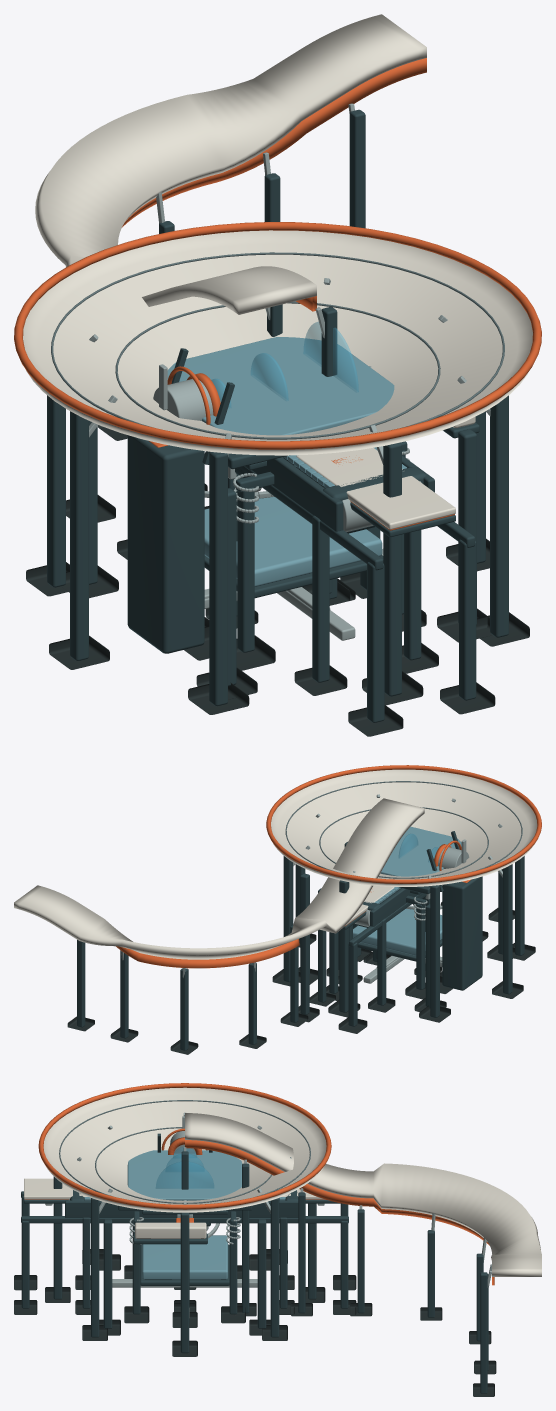
The model's file is advanced-obstacle-library.glb.
3 renders of one model, top to bottom at view 1: azimuth 30°, elevation 25°; view 2: azimuth 150°, elevation 25°; view 3: azimuth 270°, elevation 25°, orthographic. The views are drawn at different scales.
Parts seen in each view (by area): view 1: Funnel annular surface, Coaster ivory deck, Jet pedestal, Gimbal inner deck enamel, Funnel outer safety rail, Funnel lower catch deck, Funnel leg 4, Funnel leg 5, Funnel leg 2, Funnel leg 3, Coaster low safety rails, Funnel leg 6 (+29 smaller); view 2: Funnel annular surface, Coaster ivory deck, Jet pedestal, Funnel outer safety rail, Gimbal inner deck enamel, Coaster low safety rails, Funnel lower catch deck, Funnel leg 6, Funnel leg 5, Funnel leg 8, Funnel leg 7, Funnel leg 4 (+20 smaller); view 3: Funnel annular surface, Coaster ivory deck, Gimbal inner deck enamel, Funnel outer safety rail, Funnel lower catch deck, Coaster low safety rails, Conveyor side guard 0.82, Cascade side beam 0.82, Funnel leg 1, Funnel leg 8, Funnel leg 2, Gimbal pedestal 2.15-2.15 (+25 smaller).
Part boxes in pixels (x1,y1,x2,y2): Funnel annular surface: [23, 230, 532, 455]; Coaster ivory deck: [35, 14, 426, 314]; Jet pedestal: [127, 435, 204, 653]; Gimbal inner deck enamel: [167, 337, 394, 435]; Funnel outer safety rail: [14, 222, 541, 449]; Funnel lower catch deck: [204, 497, 382, 586]; Funnel leg 4: [209, 452, 227, 706]; Funnel leg 5: [70, 411, 88, 660]; Funnel leg 2: [490, 395, 508, 637]; Funnel leg 3: [383, 442, 401, 696]; Coaster low safety rails: [122, 58, 426, 311]; Funnel leg 6: [47, 395, 65, 587]; Funnel annular surface: [271, 769, 537, 886]; Coaster ivory deck: [14, 798, 424, 959]; Jet pedestal: [442, 876, 482, 990]; Funnel outer safety rail: [266, 765, 541, 883]; Gimbal inner deck enamel: [380, 826, 461, 876]; Coaster low safety rails: [116, 939, 299, 968]; Funnel lower catch deck: [353, 908, 442, 955]; Funnel leg 6: [430, 885, 439, 1017]; Funnel leg 5: [503, 864, 512, 994]; Funnel leg 8: [283, 856, 293, 982]; Funnel leg 7: [339, 880, 349, 1012]; Funnel leg 4: [515, 856, 524, 955]; Funnel annular surface: [43, 1087, 326, 1212]; Coaster ivory deck: [185, 1113, 541, 1276]; Gimbal inner deck enamel: [127, 1150, 242, 1200]; Funnel outer safety rail: [38, 1083, 331, 1209]; Funnel lower catch deck: [142, 1235, 227, 1279]; Coaster low safety rails: [185, 1140, 494, 1285]; Conveyor side guard 0.82: [65, 1200, 298, 1217]; Cascade side beam 0.82: [21, 1216, 348, 1223]; Funnel leg 1: [180, 1212, 189, 1353]; Funnel leg 8: [270, 1198, 279, 1337]; Funnel leg 2: [91, 1198, 99, 1337]; Gimbal pedestal 2.15-2.15: [257, 1219, 266, 1328].
Size of the model in its own units: 11.7 by 5.38 by 14.74.
